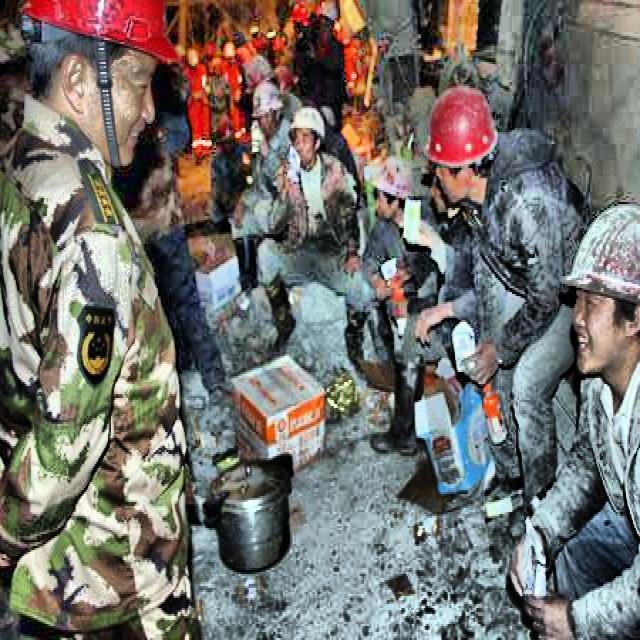helmet: (25, 6, 176, 152), (564, 190, 638, 384), (421, 86, 501, 210), (287, 102, 330, 178), (367, 158, 414, 224), (252, 78, 284, 140)
